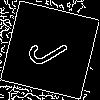J: (25, 25, 78, 71)
